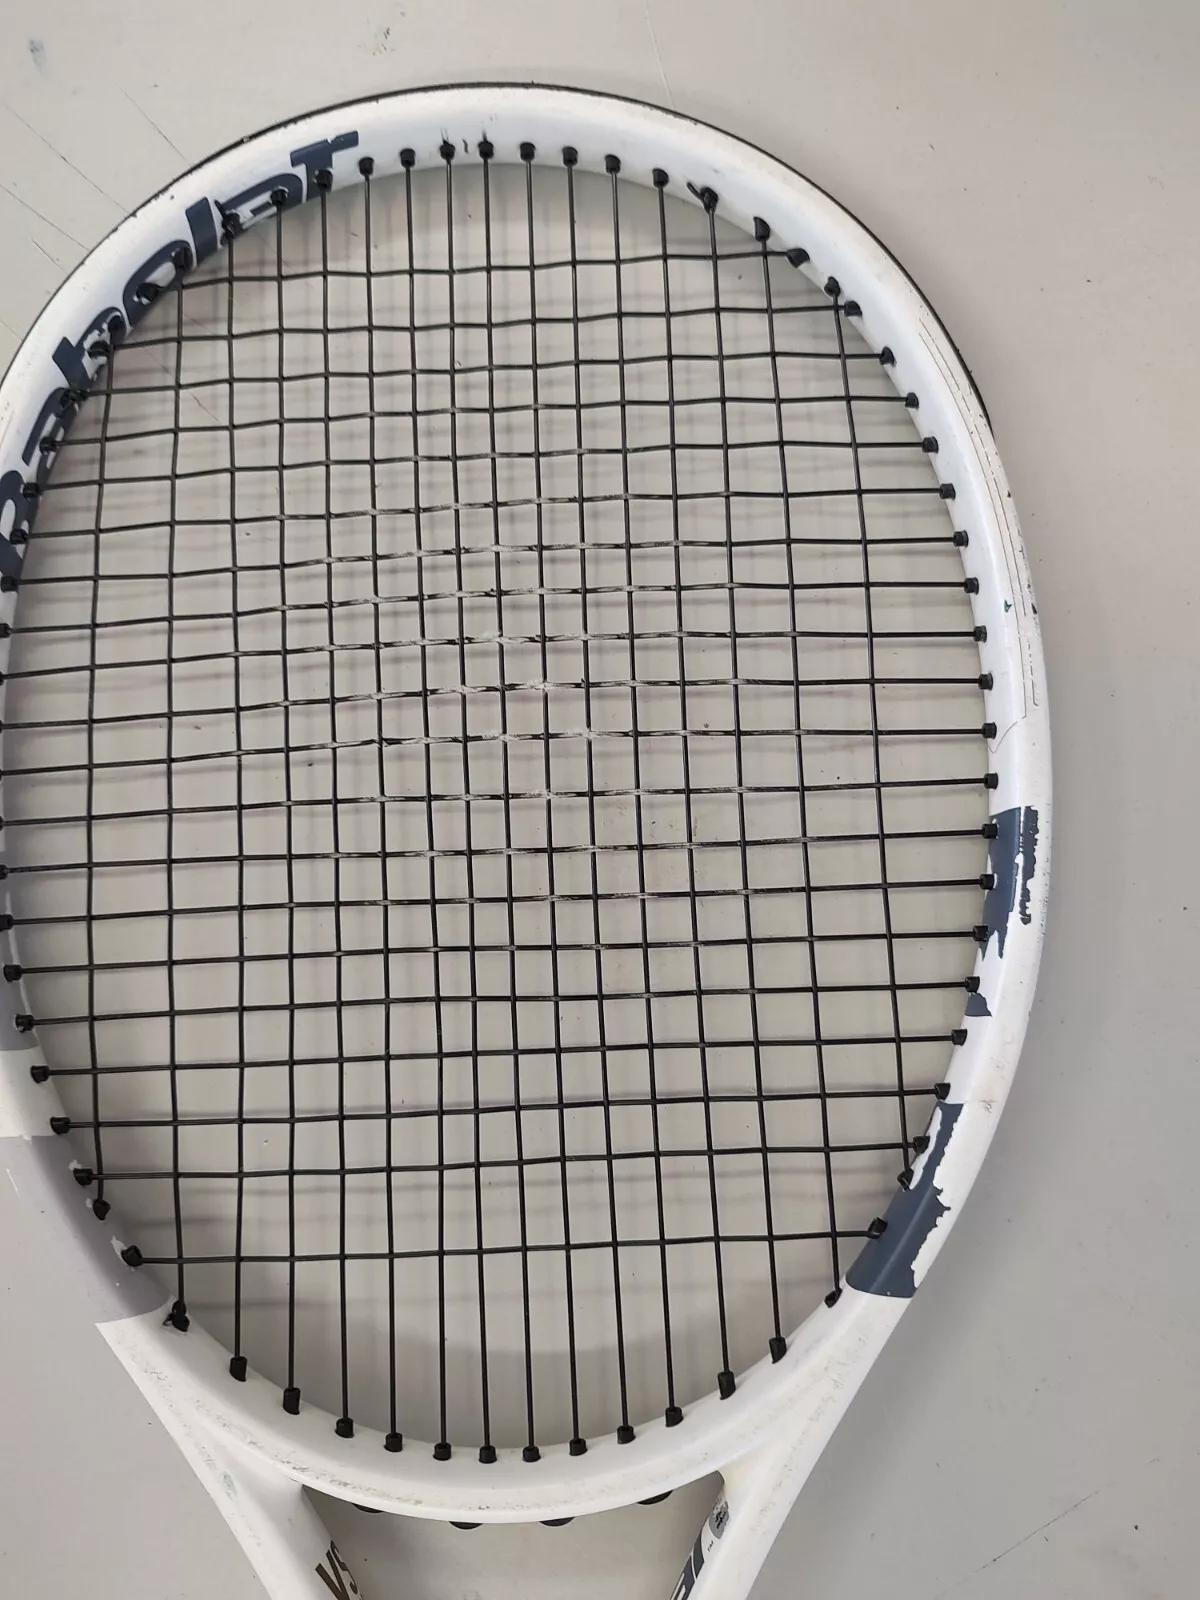Tennis-Racket: (0, 84, 1050, 1600)
